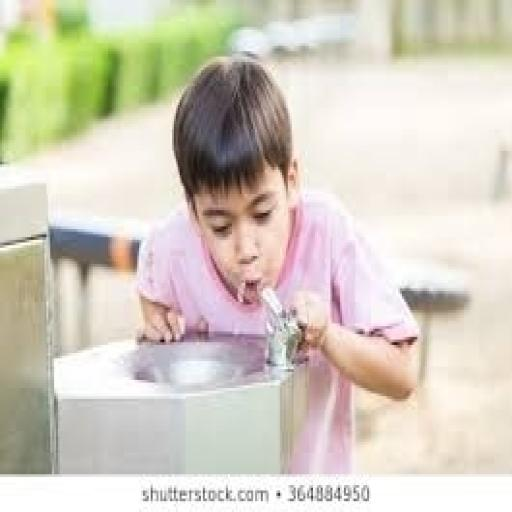drinking: (257, 283, 307, 369)
